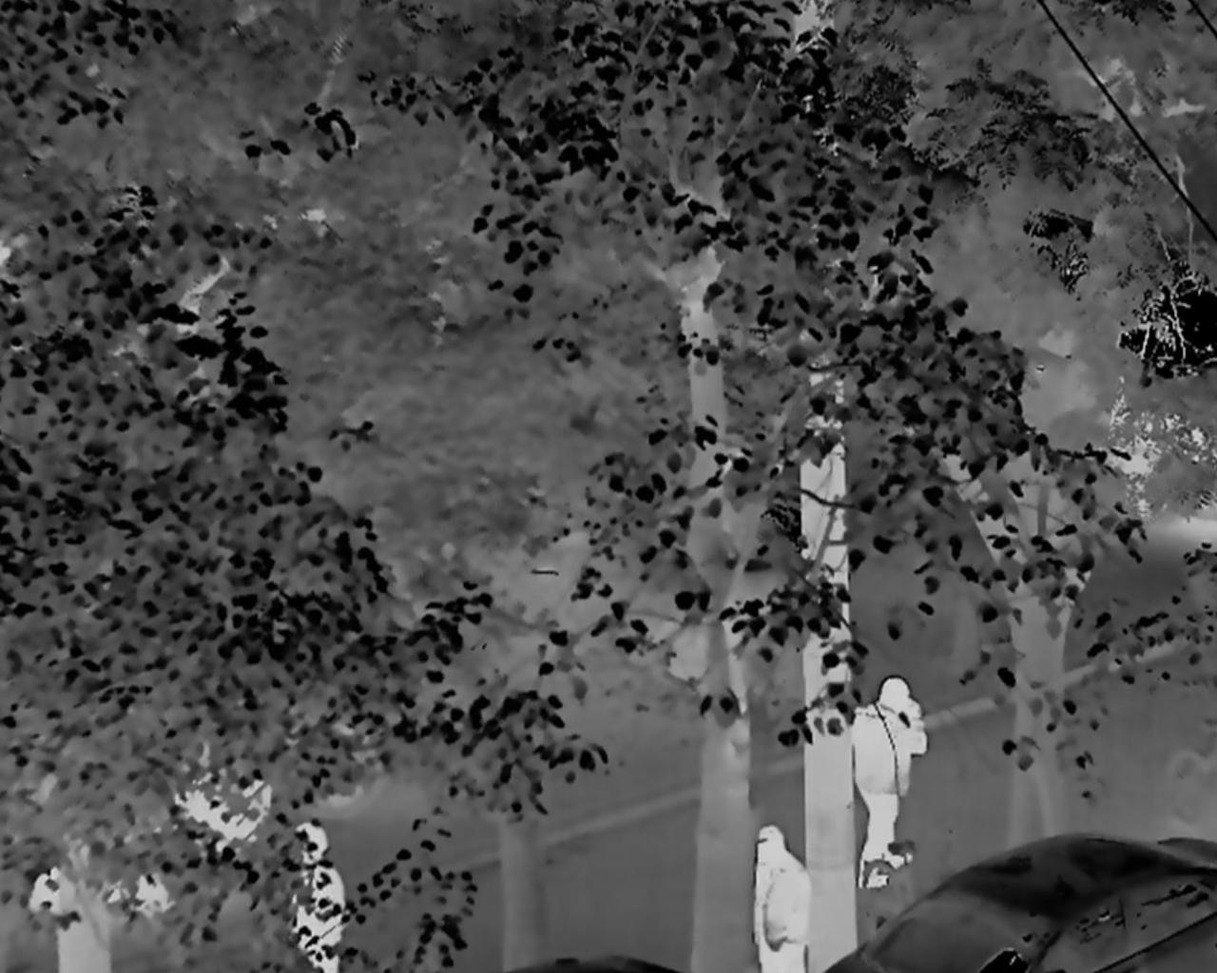person: (848, 678, 924, 895), (286, 817, 349, 965), (749, 826, 810, 973)
